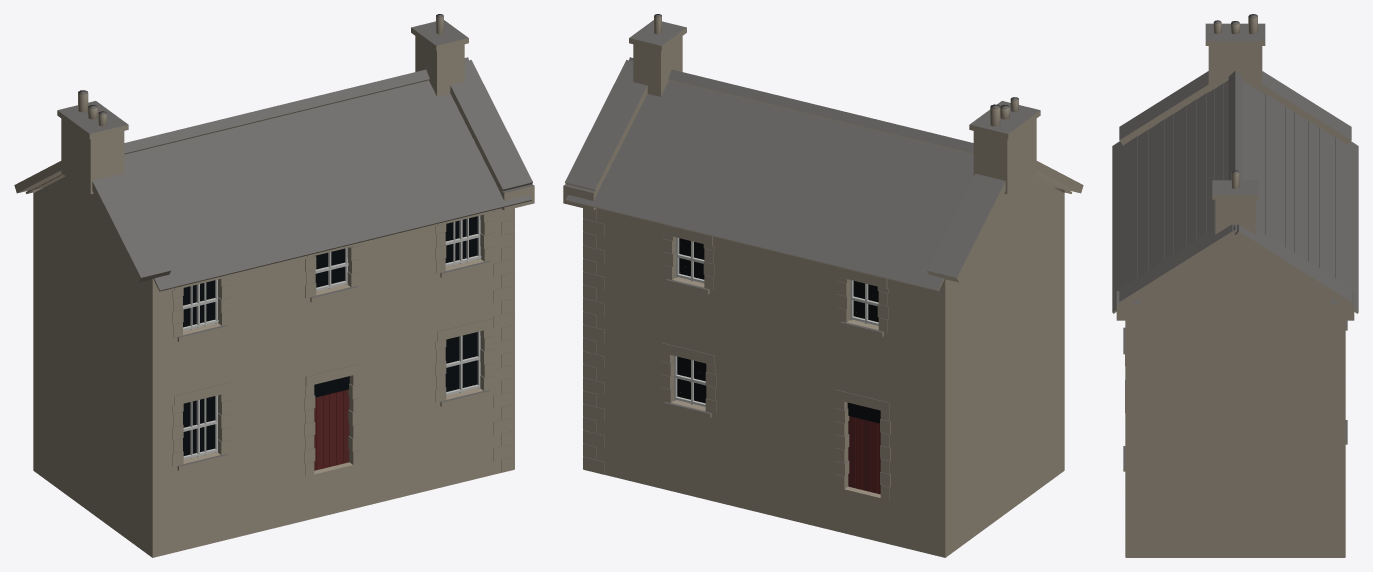
Rendered from context.dales.house_15.glb.
3 renders of one model, left to right at view 1: azimuth 30°, elevation 25°; view 2: azimuth 150°, elevation 25°; view 3: azimuth 270°, elevation 25°, orthographic. The views are drawn at different scales.
Parts seen in each view (by area): view 1: main__stone_a98, main__slate_666, main__glass_dark, main__paint_ccc, main__paint_622; view 2: main__stone_a98, main__slate_666, main__glass_dark, main__paint_ccc, main__paint_622, main__paint_522; view 3: main__stone_a98, main__slate_666.
Part boxes in pixels (x1,y1,x2,y2): main__stone_a98: (14, 16, 534, 557); main__slate_666: (57, 14, 534, 466); main__glass_dark: (183, 216, 477, 455); main__paint_ccc: (183, 215, 481, 459); main__paint_622: (316, 391, 342, 470); main__stone_a98: (563, 16, 1083, 557); main__slate_666: (563, 14, 1040, 487); main__glass_dark: (677, 238, 880, 423); main__paint_ccc: (673, 237, 878, 406); main__paint_622: (855, 417, 880, 494); main__paint_522: (848, 416, 870, 491); main__stone_a98: (1112, 16, 1358, 557); main__slate_666: (1112, 14, 1358, 546).
Size of the model in its own units: 9.42 by 9.42 by 5.53.
